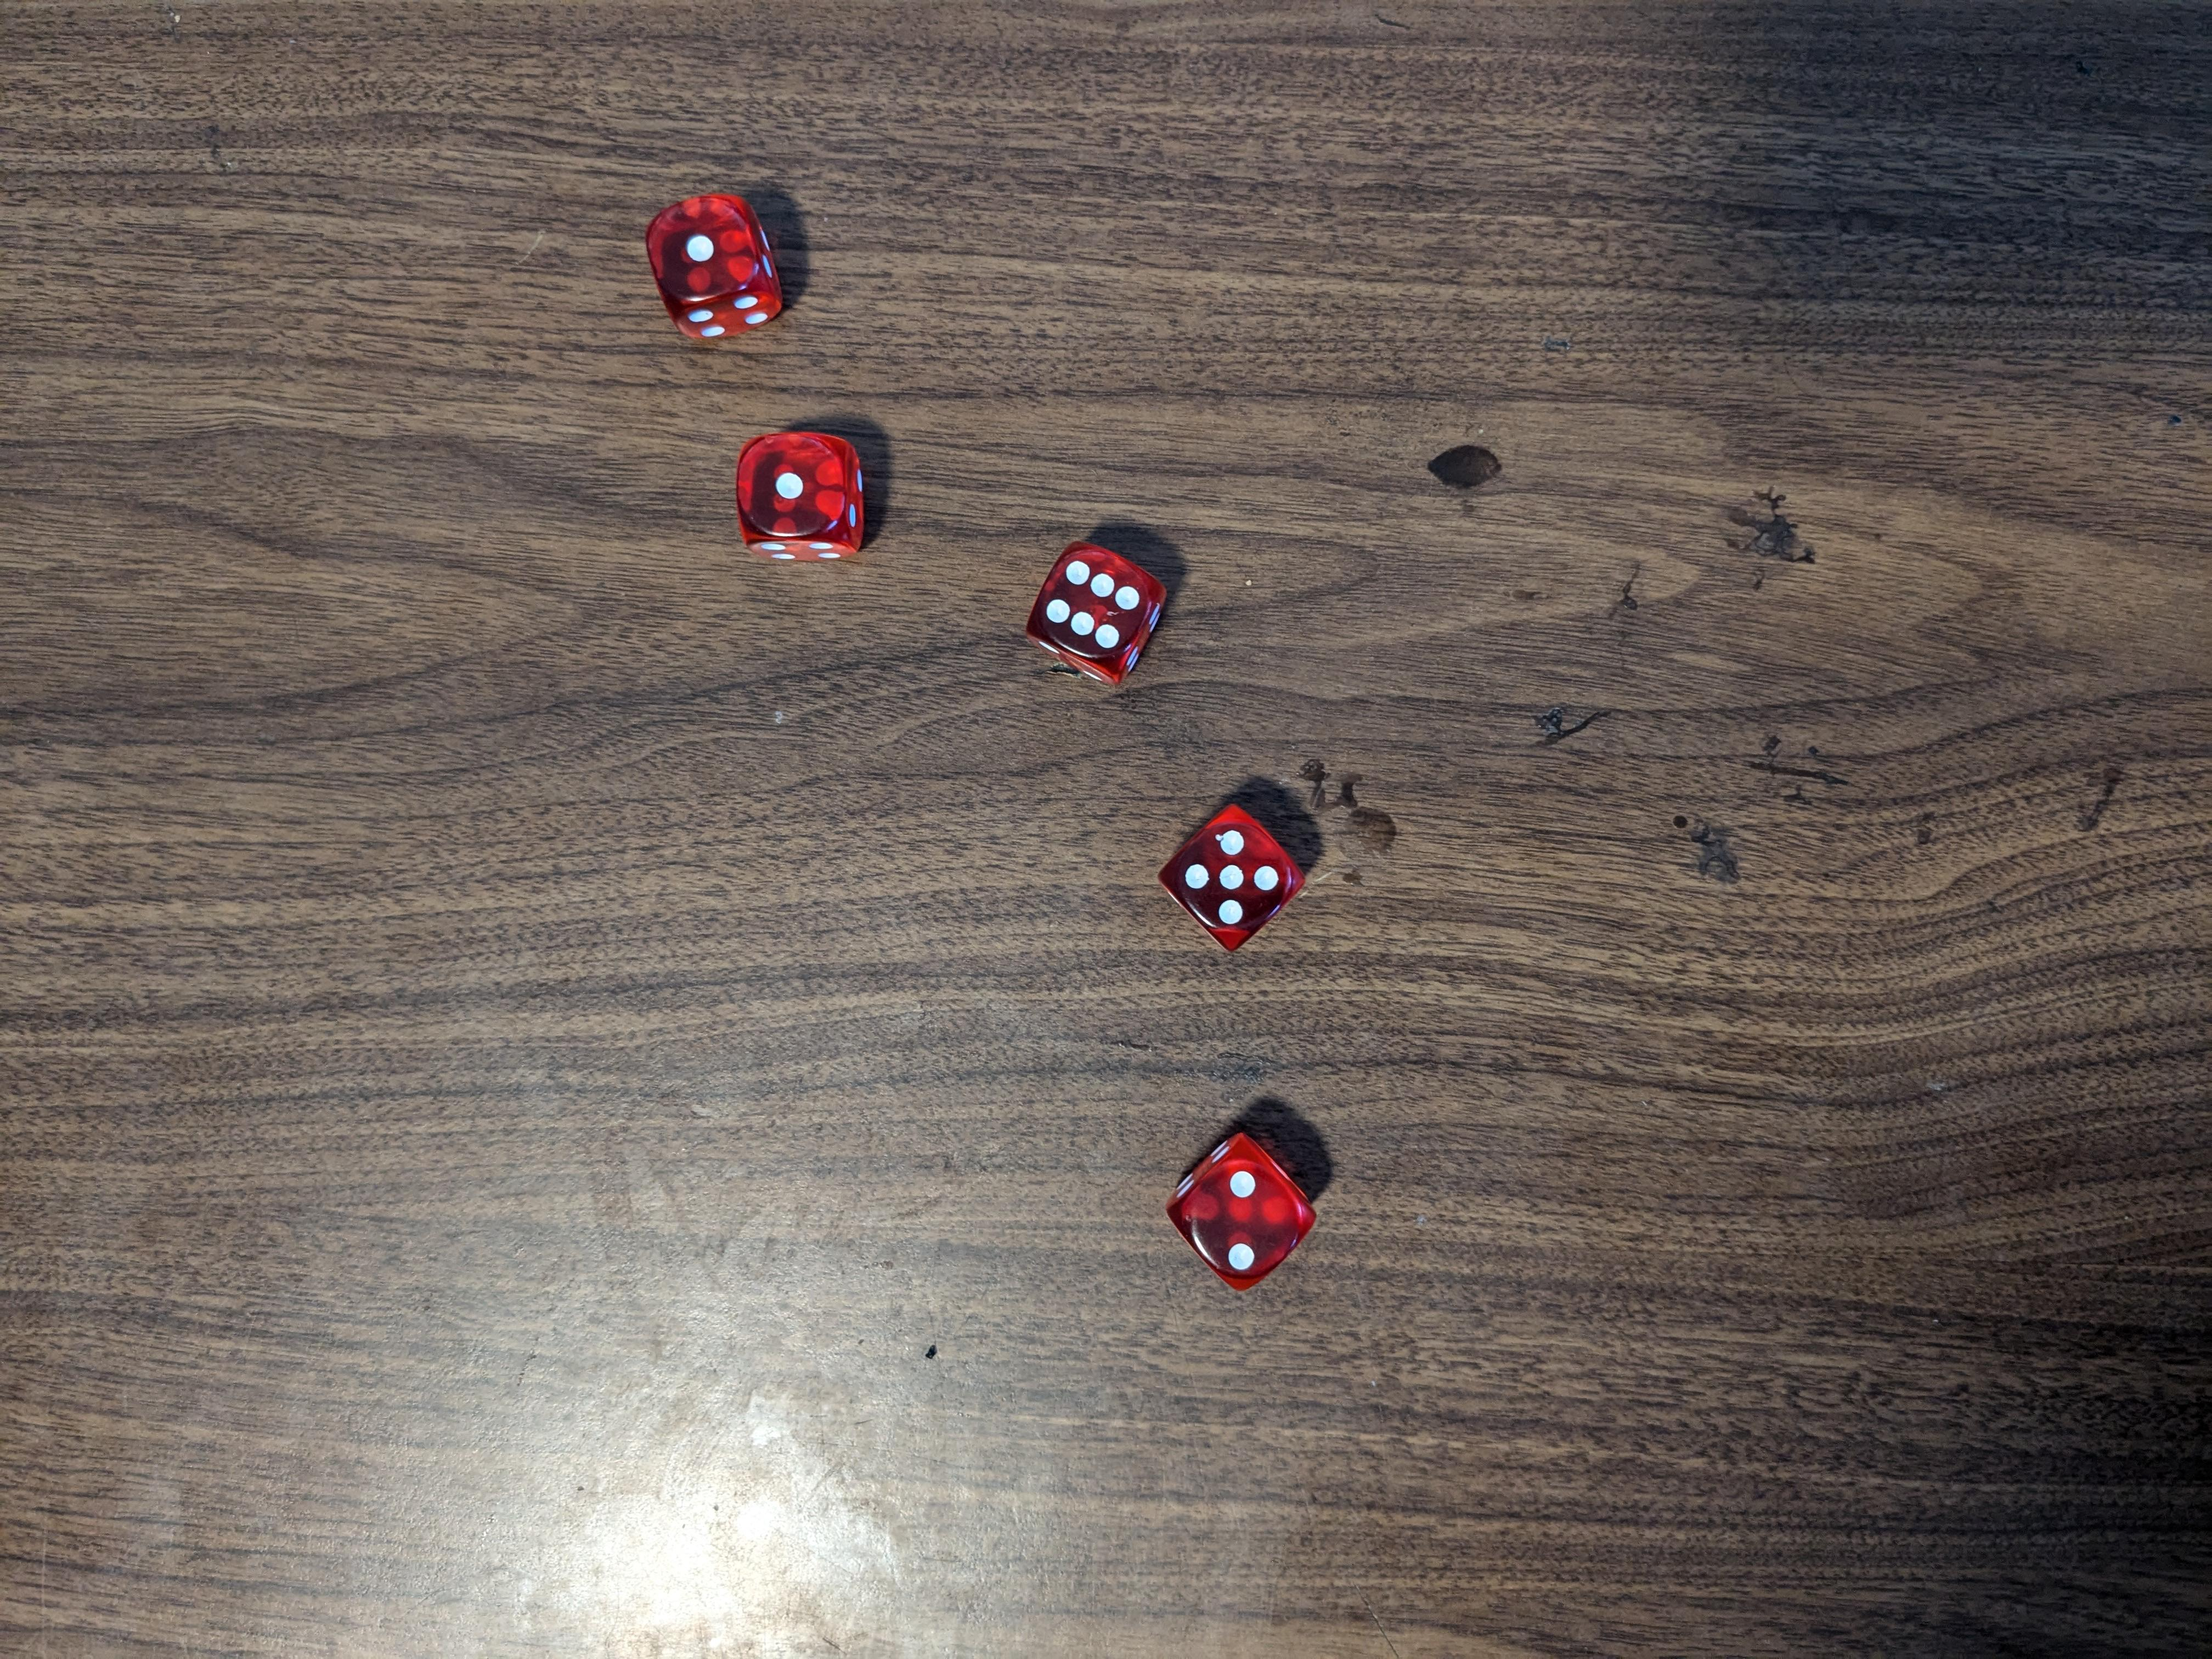five: (1163, 807, 1299, 946)
one: (735, 423, 874, 565), (648, 190, 775, 342)
six: (1028, 542, 1170, 685)
two: (1169, 1134, 1317, 1281)
